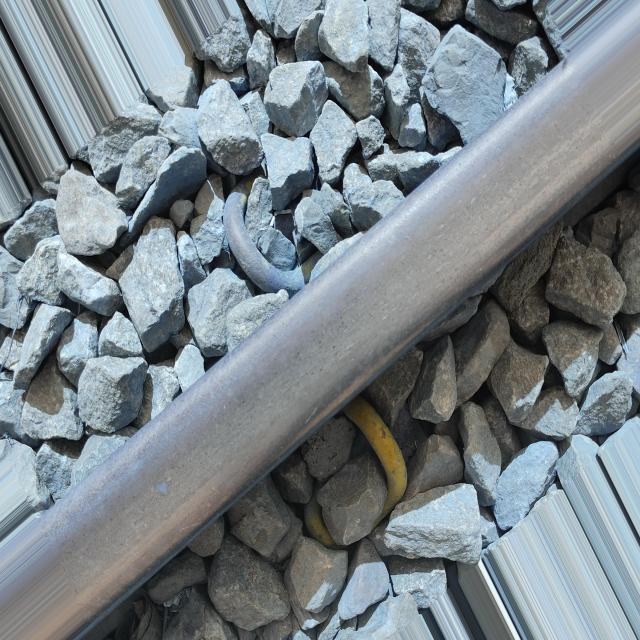Good Fasteners: (304, 396, 407, 548), (223, 193, 305, 292)
